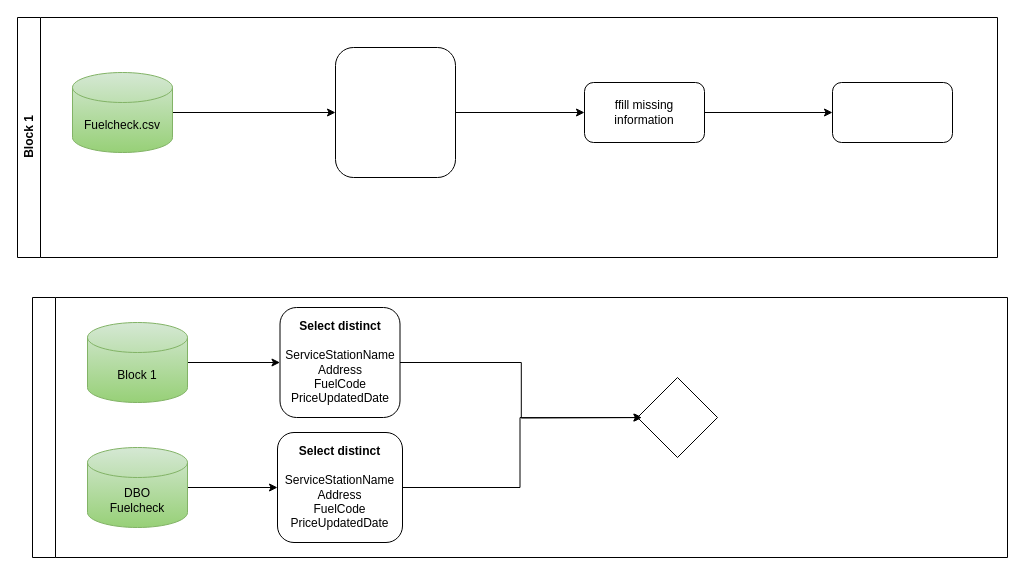
The diagram is 1025 pixels wide and 575 high, and some of its shapes have lost their labels. The shapes that lost their labels are listed below. From the top down, each one's box as (x1, y1, x2, y2) in pixels, then its label:
(334, 46, 456, 178): Select columns ServiceStationName Address Brand FuelCode PriceUpdatedDate Price
(832, 82, 952, 142): Convert date: datetime / Date
(32, 296, 1008, 558): Block 2
(636, 376, 718, 458): Union
